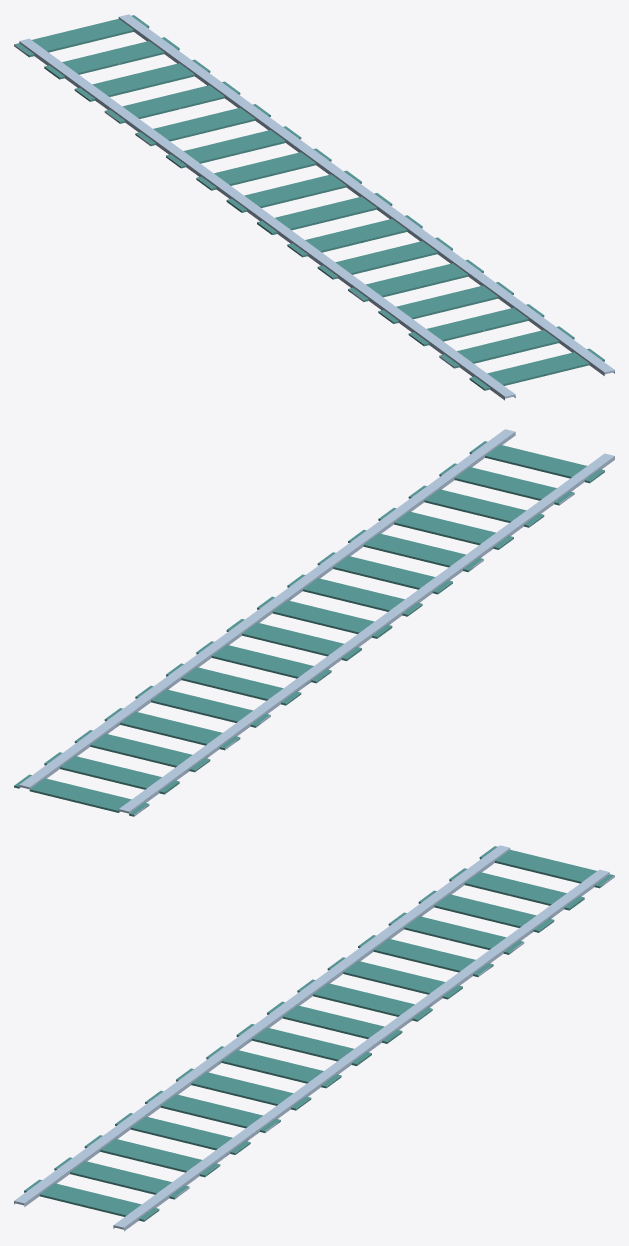
Rendered from rail.fbx.
The picture shows the model from 3 angles, top to bottom: view 1: azimuth 30°, elevation 25°; view 2: azimuth 150°, elevation 25°; view 3: azimuth 330°, elevation 25°; orthographic projection.
Visible parts, largest first — view 1: rail; view 2: rail; view 3: rail.
Part boxes in pixels (<box>): rail: <box>14,14,614,400</box>; rail: <box>14,429,614,816</box>; rail: <box>14,845,614,1231</box>.
Size of the model in its own units: 306 by 9.56 by 2145.
